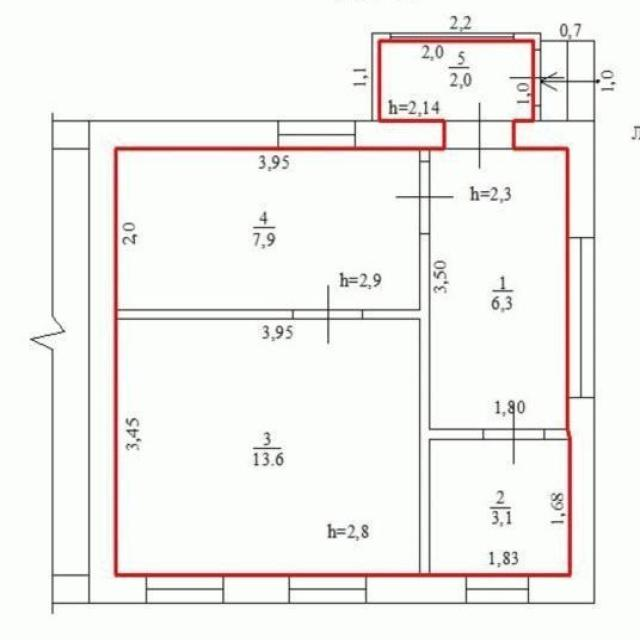Corridors: (432, 151, 565, 427), (383, 43, 530, 118)
Doors: (445, 101, 513, 170), (394, 161, 456, 234), (293, 283, 363, 345), (484, 399, 545, 468)
LBwalls: (89, 120, 277, 604), (529, 399, 595, 604), (513, 120, 595, 238), (366, 573, 466, 604), (357, 119, 445, 150), (225, 573, 288, 604)
Offices: (118, 321, 419, 571), (117, 152, 419, 309), (432, 441, 568, 571)
Stairs: (540, 39, 600, 121)
Walls: (362, 233, 484, 573), (515, 32, 542, 121), (117, 308, 293, 320), (372, 32, 390, 122), (545, 428, 569, 441), (419, 150, 430, 162)
Windows: (569, 238, 595, 399), (287, 573, 367, 603), (146, 575, 225, 605), (277, 120, 357, 147), (465, 576, 530, 605), (390, 32, 515, 42)
